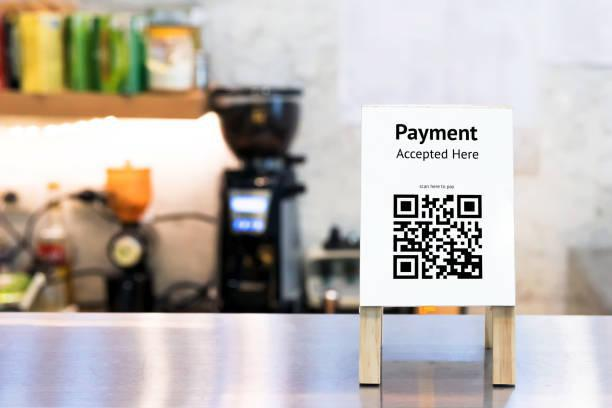Finder pattern: (455, 190, 486, 221), (389, 191, 421, 221), (391, 253, 421, 283)
